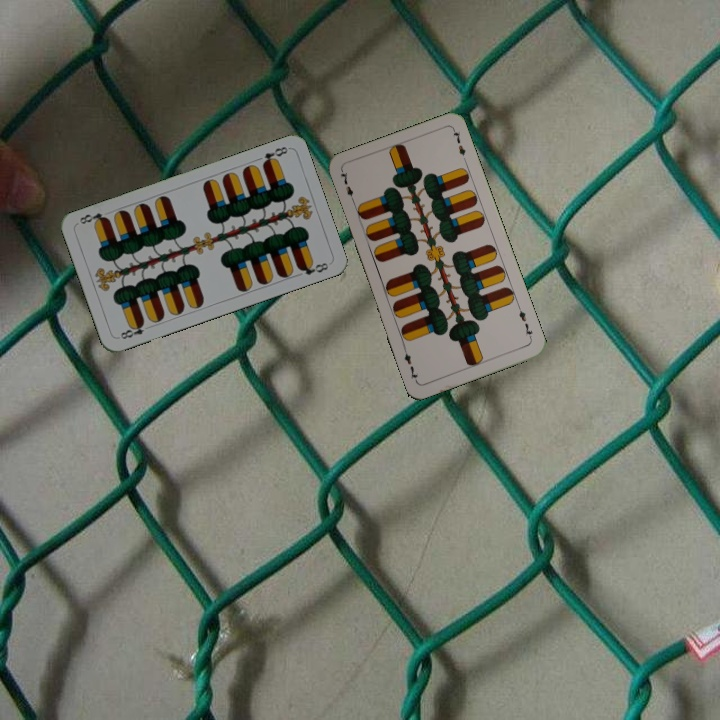E7: (336, 167, 357, 207), (514, 303, 535, 342)
E8: (114, 318, 154, 342), (258, 142, 290, 168)
